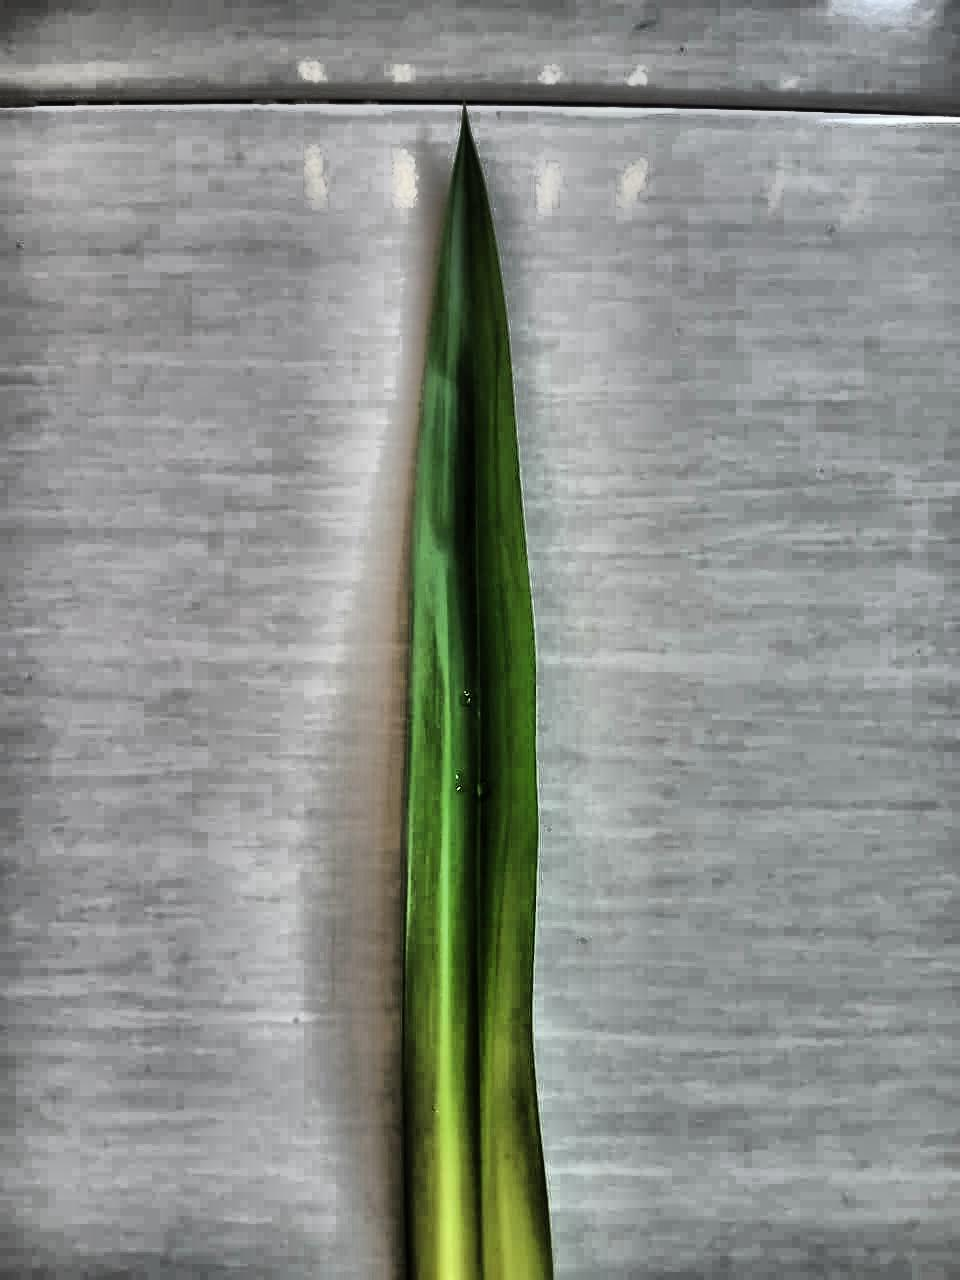daun pandan: (401, 113, 552, 1279)
